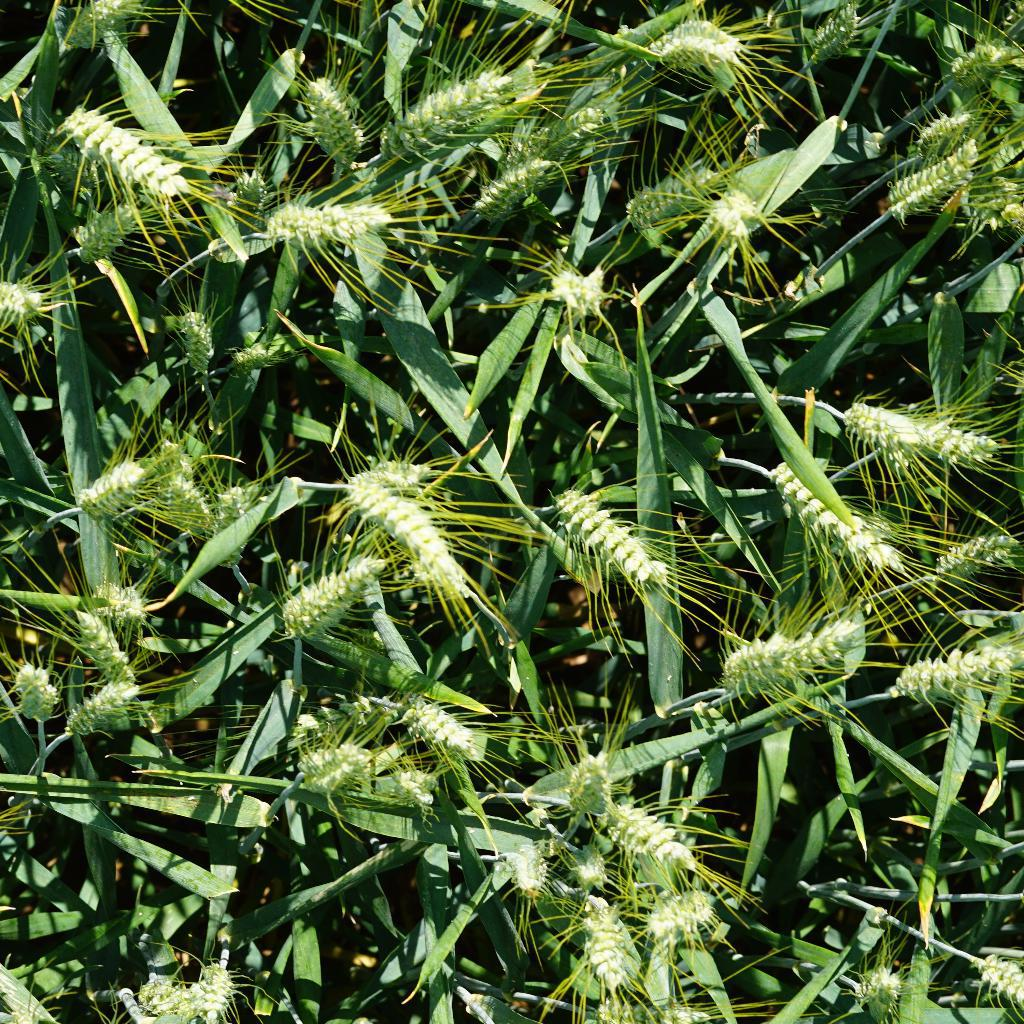0-0: (757, 449, 905, 572), (339, 473, 477, 602), (530, 478, 673, 595), (51, 93, 193, 209), (829, 395, 1000, 481), (697, 617, 869, 695), (867, 635, 1024, 710), (391, 67, 522, 156), (260, 182, 403, 262), (268, 550, 380, 647), (506, 90, 618, 179), (871, 146, 991, 220), (342, 690, 486, 750), (641, 7, 751, 83), (296, 67, 372, 167), (570, 882, 638, 993), (604, 800, 699, 879), (138, 432, 213, 531), (628, 153, 714, 227), (920, 518, 1024, 577), (71, 444, 149, 519), (548, 747, 617, 830), (893, 98, 991, 156), (64, 608, 137, 684), (940, 21, 1020, 90), (60, 0, 156, 57), (642, 879, 728, 942), (160, 301, 227, 381), (477, 154, 557, 220), (493, 836, 565, 908), (350, 437, 428, 503), (291, 724, 369, 789), (53, 198, 134, 260), (82, 570, 161, 632), (546, 250, 612, 322), (804, 0, 869, 66), (62, 683, 138, 739), (183, 957, 245, 1023), (698, 185, 761, 246), (228, 328, 303, 378), (222, 167, 272, 241), (11, 653, 59, 728), (384, 762, 448, 817), (0, 267, 58, 327), (123, 968, 186, 1023), (856, 959, 915, 1017), (598, 997, 717, 1024), (968, 948, 1024, 1002), (216, 479, 258, 535)
